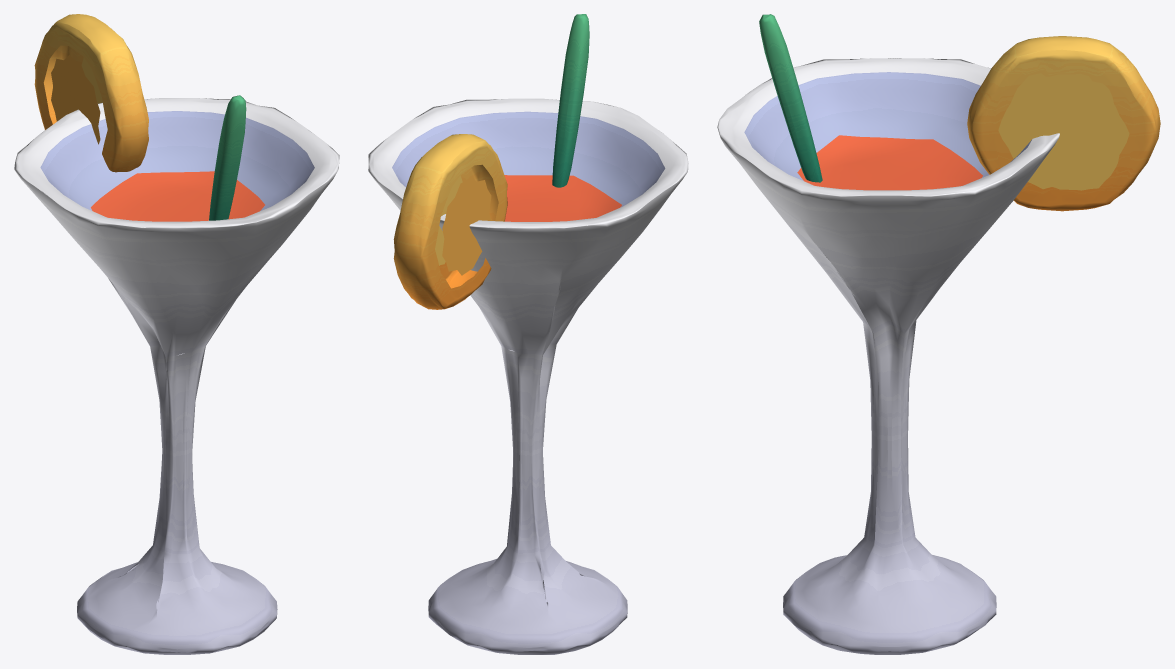
The picture shows the model from 3 angles, left to right: view 1: azimuth 30°, elevation 25°; view 2: azimuth 150°, elevation 25°; view 3: azimuth 270°, elevation 25°; orthographic projection. The views are drawn at different scales.
Bounding box in the file's own units: 0.484 × 0.9917 × 0.6593.
Materials: 1 (1 with a texture image).
